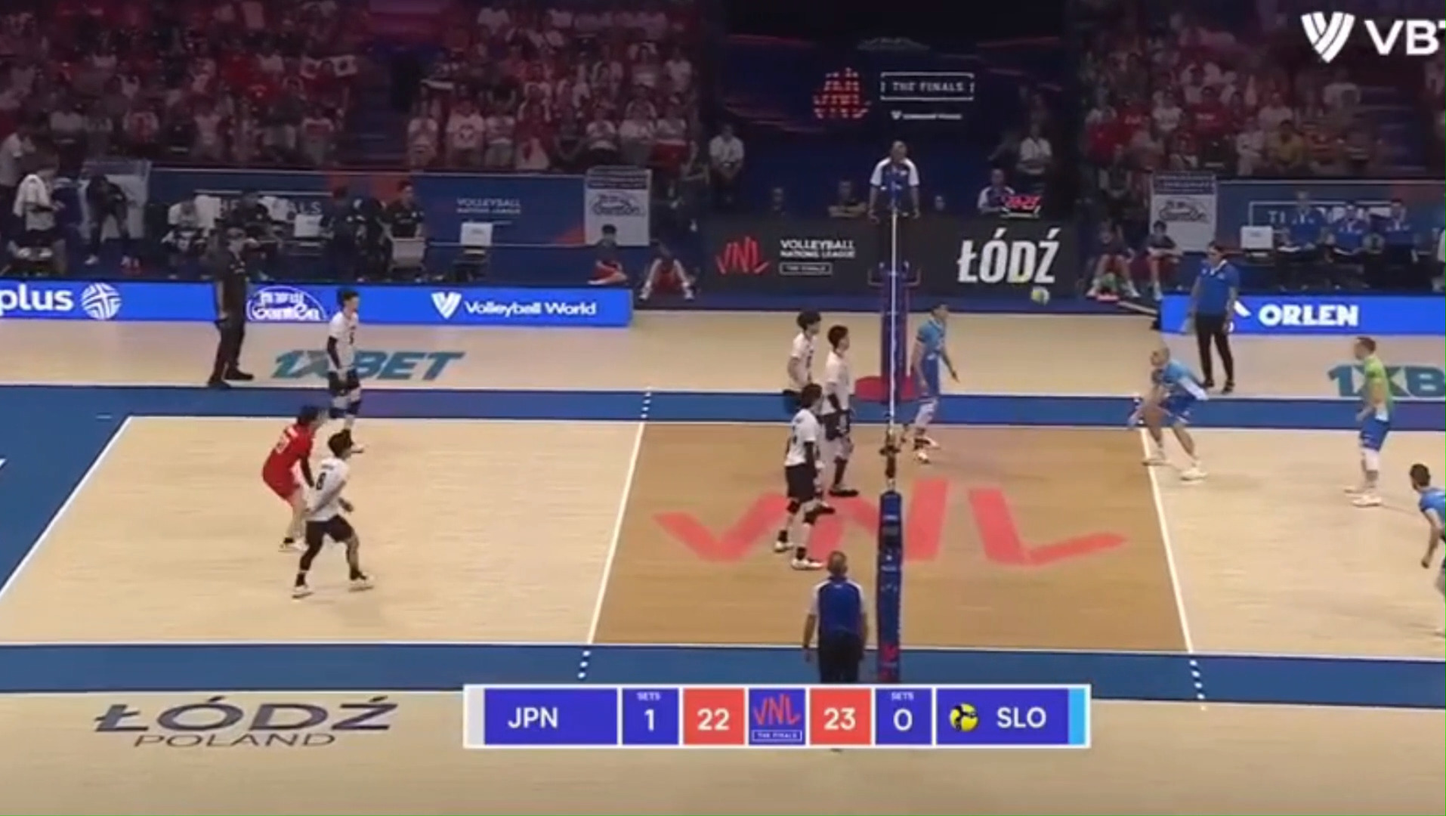ball: (1030, 286, 1050, 306)
player: (1129, 345, 1208, 481), (1347, 335, 1393, 507), (910, 304, 956, 463), (1409, 463, 1445, 567)
player 1: (292, 430, 369, 598), (774, 383, 832, 551), (261, 405, 325, 550), (819, 325, 857, 497), (326, 289, 361, 433), (783, 311, 821, 410), (793, 539, 821, 570), (341, 345, 341, 349)
referee: (802, 551, 867, 684), (867, 139, 921, 286), (1188, 242, 1239, 394), (208, 227, 254, 388)
